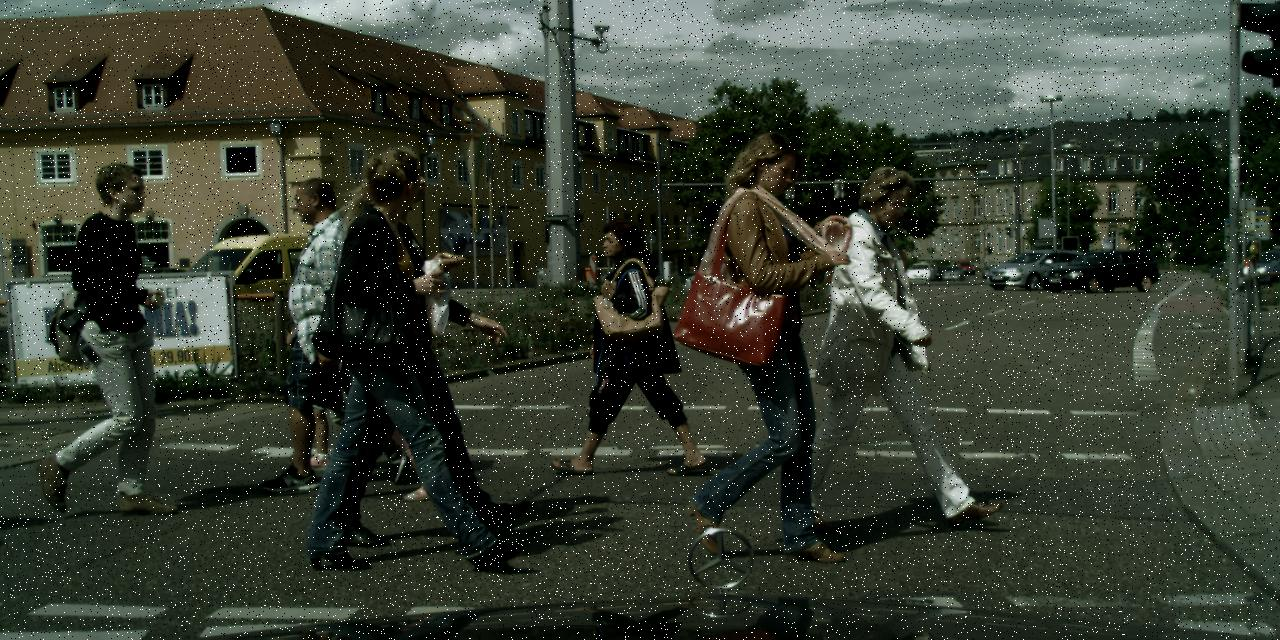ped: (316, 147, 488, 566), (679, 131, 849, 549), (333, 147, 493, 538), (816, 165, 966, 530), (35, 162, 175, 504), (274, 176, 398, 479), (322, 237, 428, 497), (576, 218, 680, 473), (298, 289, 366, 456), (982, 256, 986, 266)
